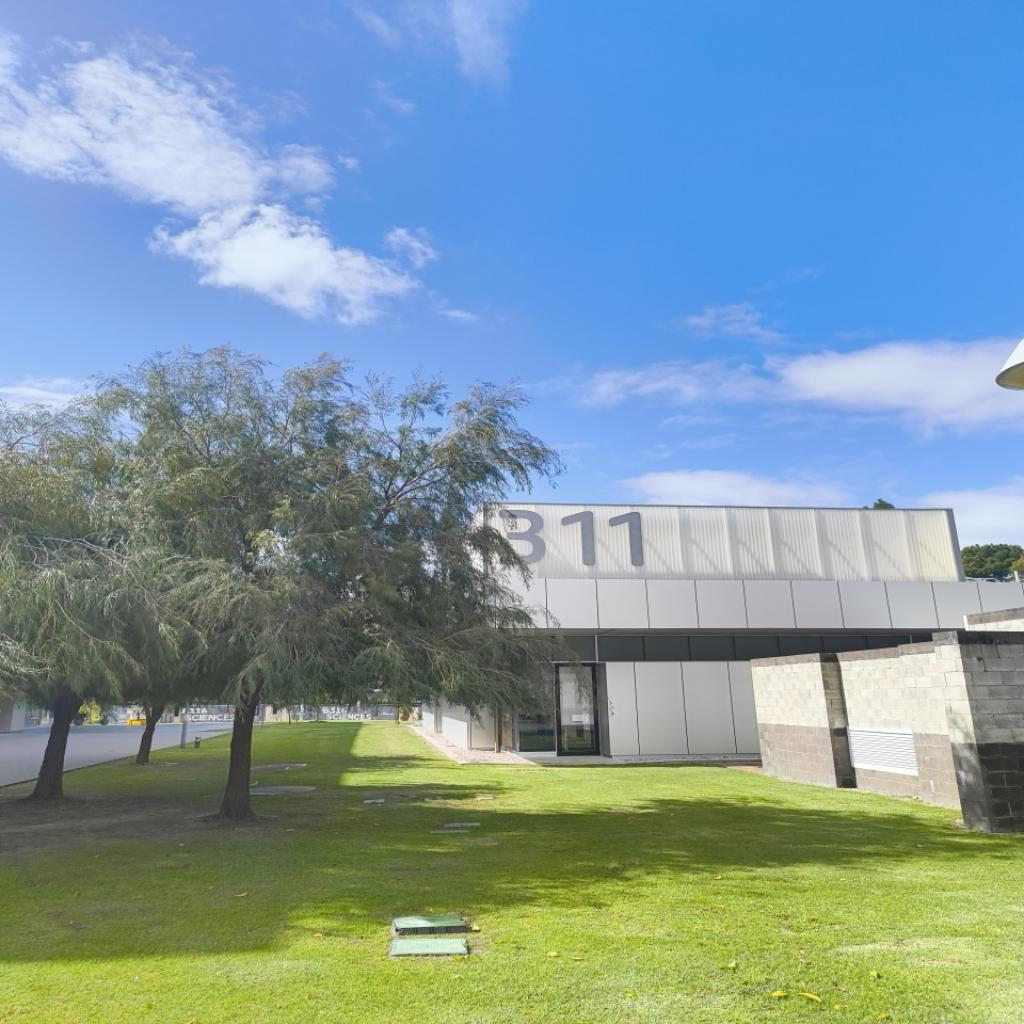BuildingCodes: (495, 507, 647, 571)
